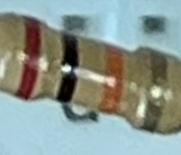Black: (54, 31, 83, 104)
Orange: (97, 40, 128, 115)
Red: (13, 15, 43, 102)
Side-Silver: (138, 47, 170, 132)
